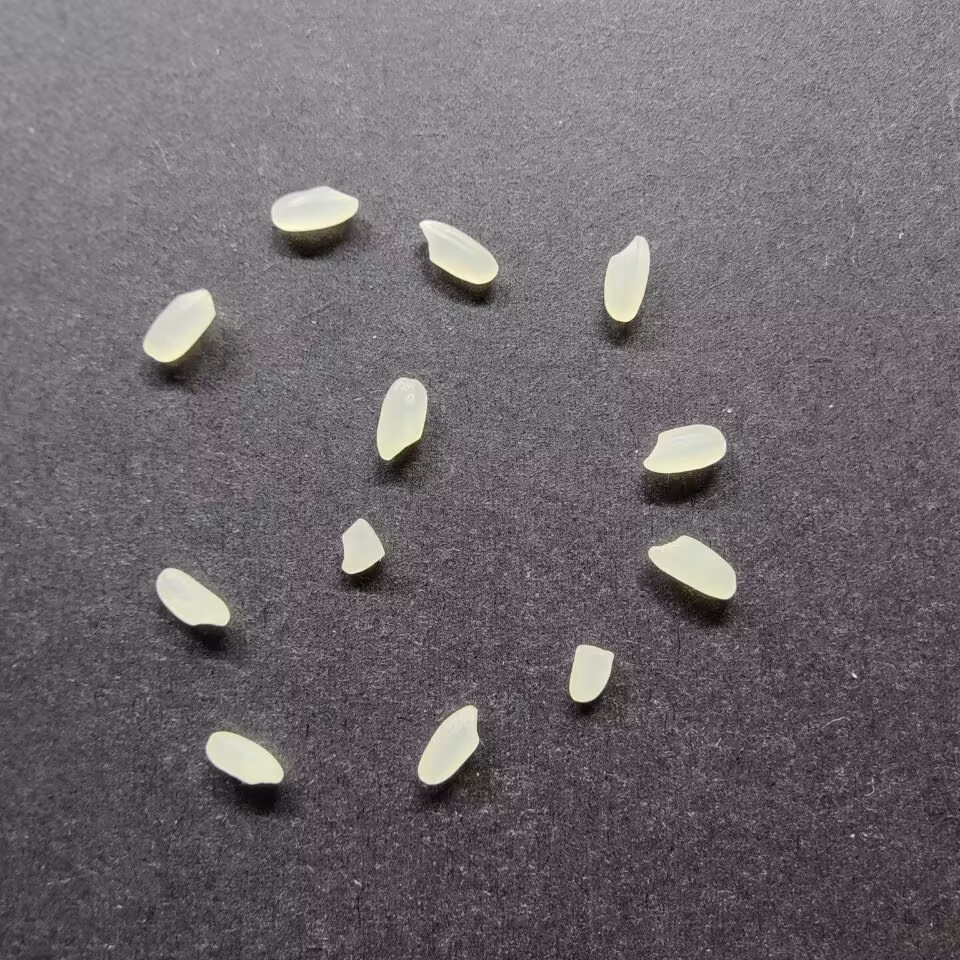broken: (337, 515, 388, 576), (565, 642, 615, 704)
rice: (646, 532, 740, 602), (139, 286, 217, 363), (416, 217, 501, 286), (415, 703, 481, 786), (153, 565, 232, 630), (372, 376, 429, 461), (203, 729, 285, 787), (601, 234, 653, 323), (641, 422, 727, 475), (268, 183, 359, 233)
